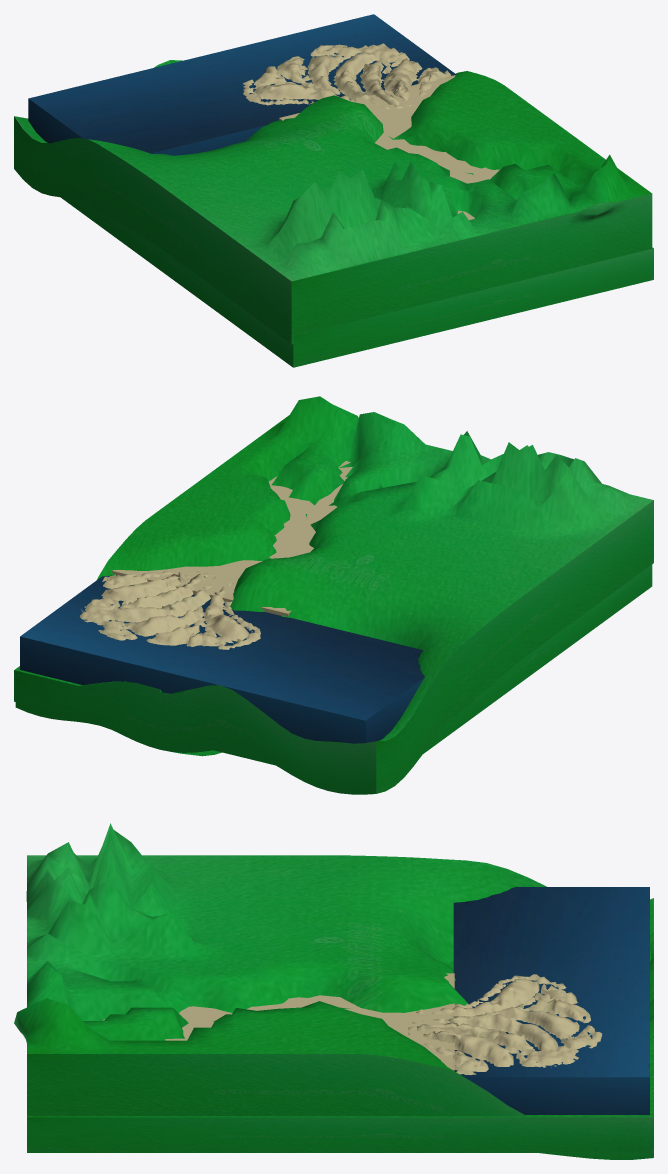
The model's file is 扇形三角洲.gltf.
The picture shows the model from 3 angles, top to bottom: view 1: azimuth 30°, elevation 25°; view 2: azimuth 150°, elevation 25°; view 3: azimuth 270°, elevation 25°; orthographic projection. The views are drawn at different scales.
Parts seen in each view (by area): view 1: node_Box002_-1108, node_Box005_-1112, node_Box003_-1110, node_Plane005_-1102, node_Box006_-1114; view 2: node_Box002_-1108, node_Box005_-1112, node_Plane005_-1102, node_Box003_-1110, node_Box006_-1114; view 3: node_Box002_-1108, node_Box005_-1112, node_Box003_-1110, node_Plane005_-1102, node_Box006_-1114.
Boxes of the visible parts, box(x1,y1,x2,y2) form: node_Box002_-1108: box(14, 60, 652, 344); node_Box005_-1112: box(28, 14, 455, 155); node_Box003_-1110: box(61, 197, 653, 367); node_Plane005_-1102: box(243, 43, 450, 110); node_Box006_-1114: box(279, 75, 499, 219); node_Box002_-1108: box(15, 396, 653, 794); node_Box005_-1112: box(20, 575, 424, 743); node_Plane005_-1102: box(80, 571, 260, 649); node_Box003_-1110: box(14, 564, 652, 765); node_Box006_-1114: box(112, 461, 352, 617); node_Box002_-1108: box(14, 823, 653, 1159); node_Box005_-1112: box(453, 887, 649, 1114); node_Box003_-1110: box(27, 950, 653, 1152); node_Plane005_-1102: box(408, 974, 602, 1075); node_Box006_-1114: box(103, 973, 454, 1070).
Bounding box in the file's own units: 3.89 × 1.87 × 5.27.
